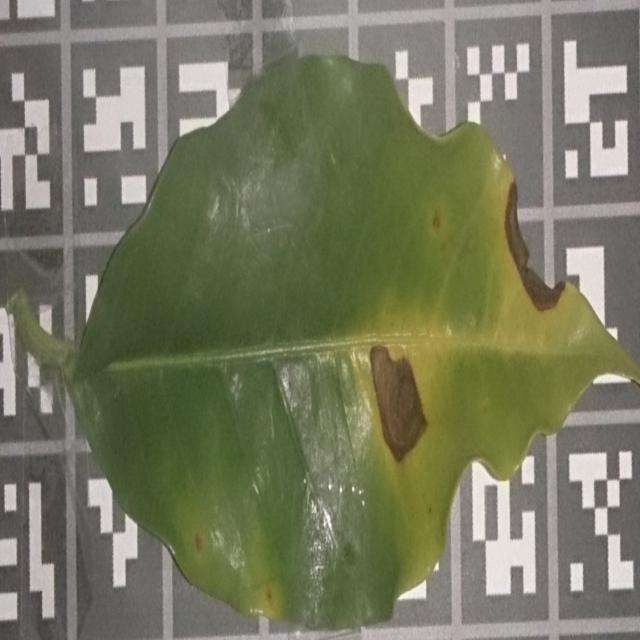Enfermedad-Mancha-de-hierro: (10, 55, 640, 633)
